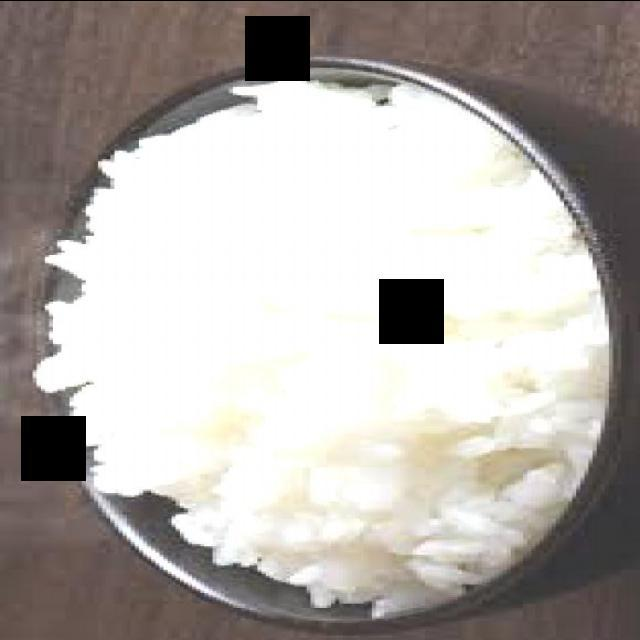rice: (34, 75, 606, 615)
